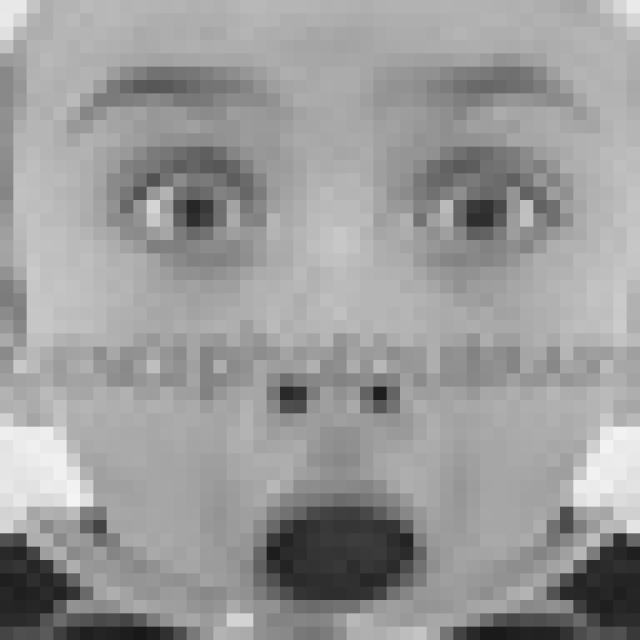surprise: (56, 67, 607, 618)
